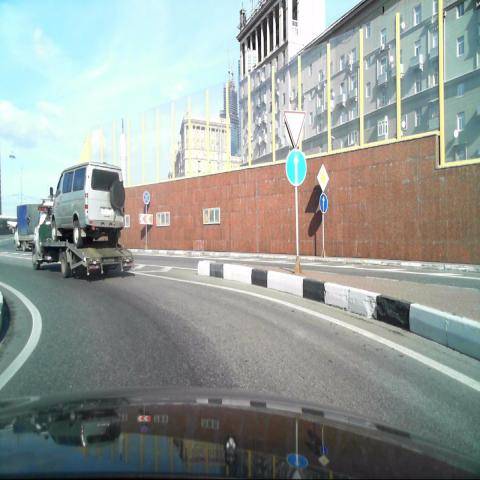4_1_1: (318, 192, 330, 214)
